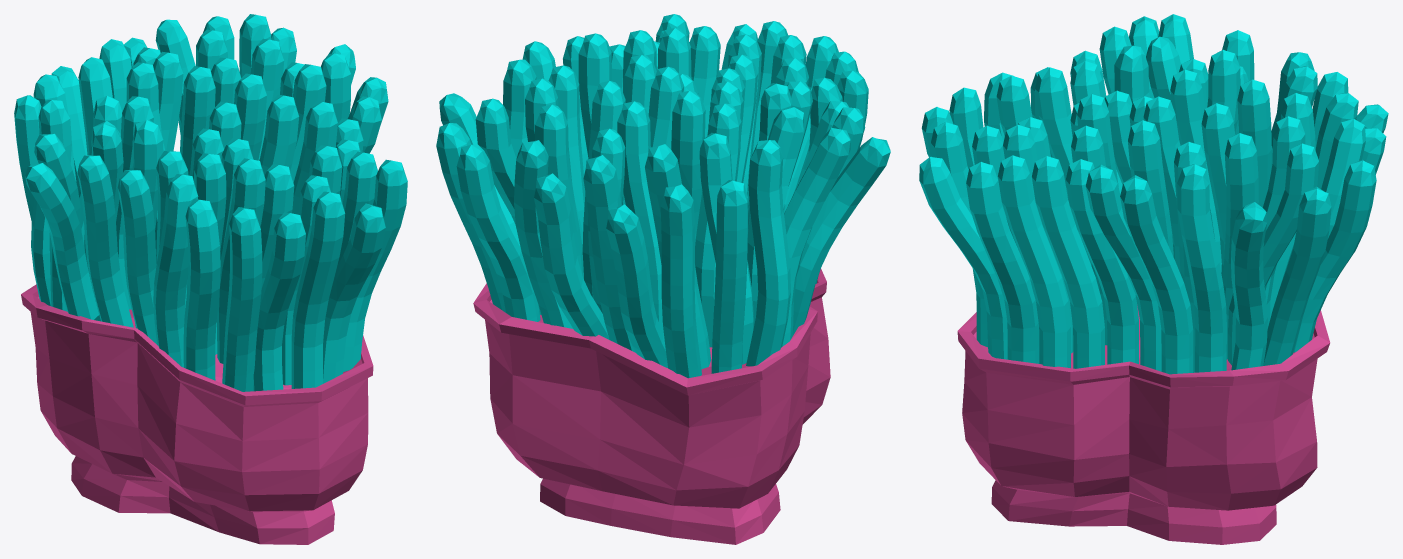
File: anemone.glb
The picture shows the model from 3 angles, left to right: view 1: azimuth 30°, elevation 25°; view 2: azimuth 150°, elevation 25°; view 3: azimuth 270°, elevation 25°; orthographic projection. The views are drawn at different scales.
Visible parts, largest first — view 1: Node; view 2: Node; view 3: Node.
Part boxes in pixels (left/top/right/bottom): Node: left=14, top=14, right=407, bottom=544; Node: left=436, top=14, right=890, bottom=544; Node: left=919, top=14, right=1388, bottom=544.
Bounding box in the file's own units: 7.35 × 7.62 × 7.59.
